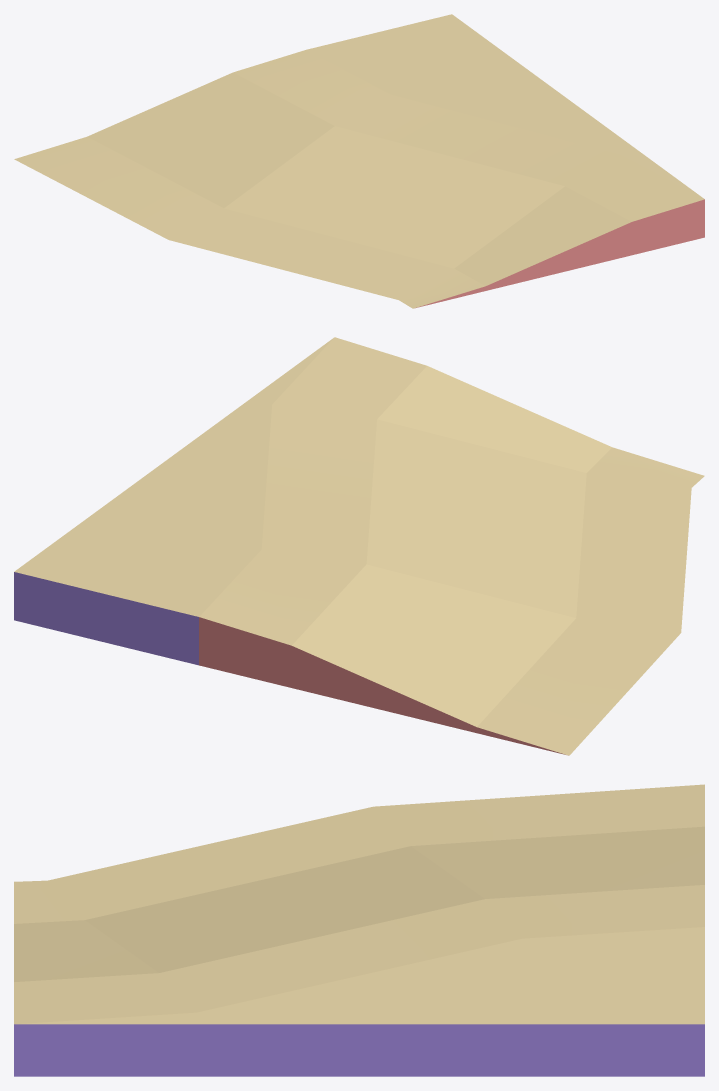
The model's file is Terrain_Sand_Incline_Esse_6x6.glb.
3 renders of one model, top to bottom at view 1: azimuth 30°, elevation 25°; view 2: azimuth 150°, elevation 25°; view 3: azimuth 270°, elevation 25°, orthographic. The views are drawn at different scales.
Parts seen in each view (by area): view 1: Terrain_Sand_Incline_Esse_6x6; view 2: Terrain_Sand_Incline_Esse_6x6; view 3: Terrain_Sand_Incline_Esse_6x6.
Boxes of the visible parts, x1,y1,x2,y2 form: Terrain_Sand_Incline_Esse_6x6: (14, 14, 704, 308); Terrain_Sand_Incline_Esse_6x6: (14, 337, 704, 755); Terrain_Sand_Incline_Esse_6x6: (14, 784, 704, 1076).
Size of the model in its own units: 600 by 50 by 600.
